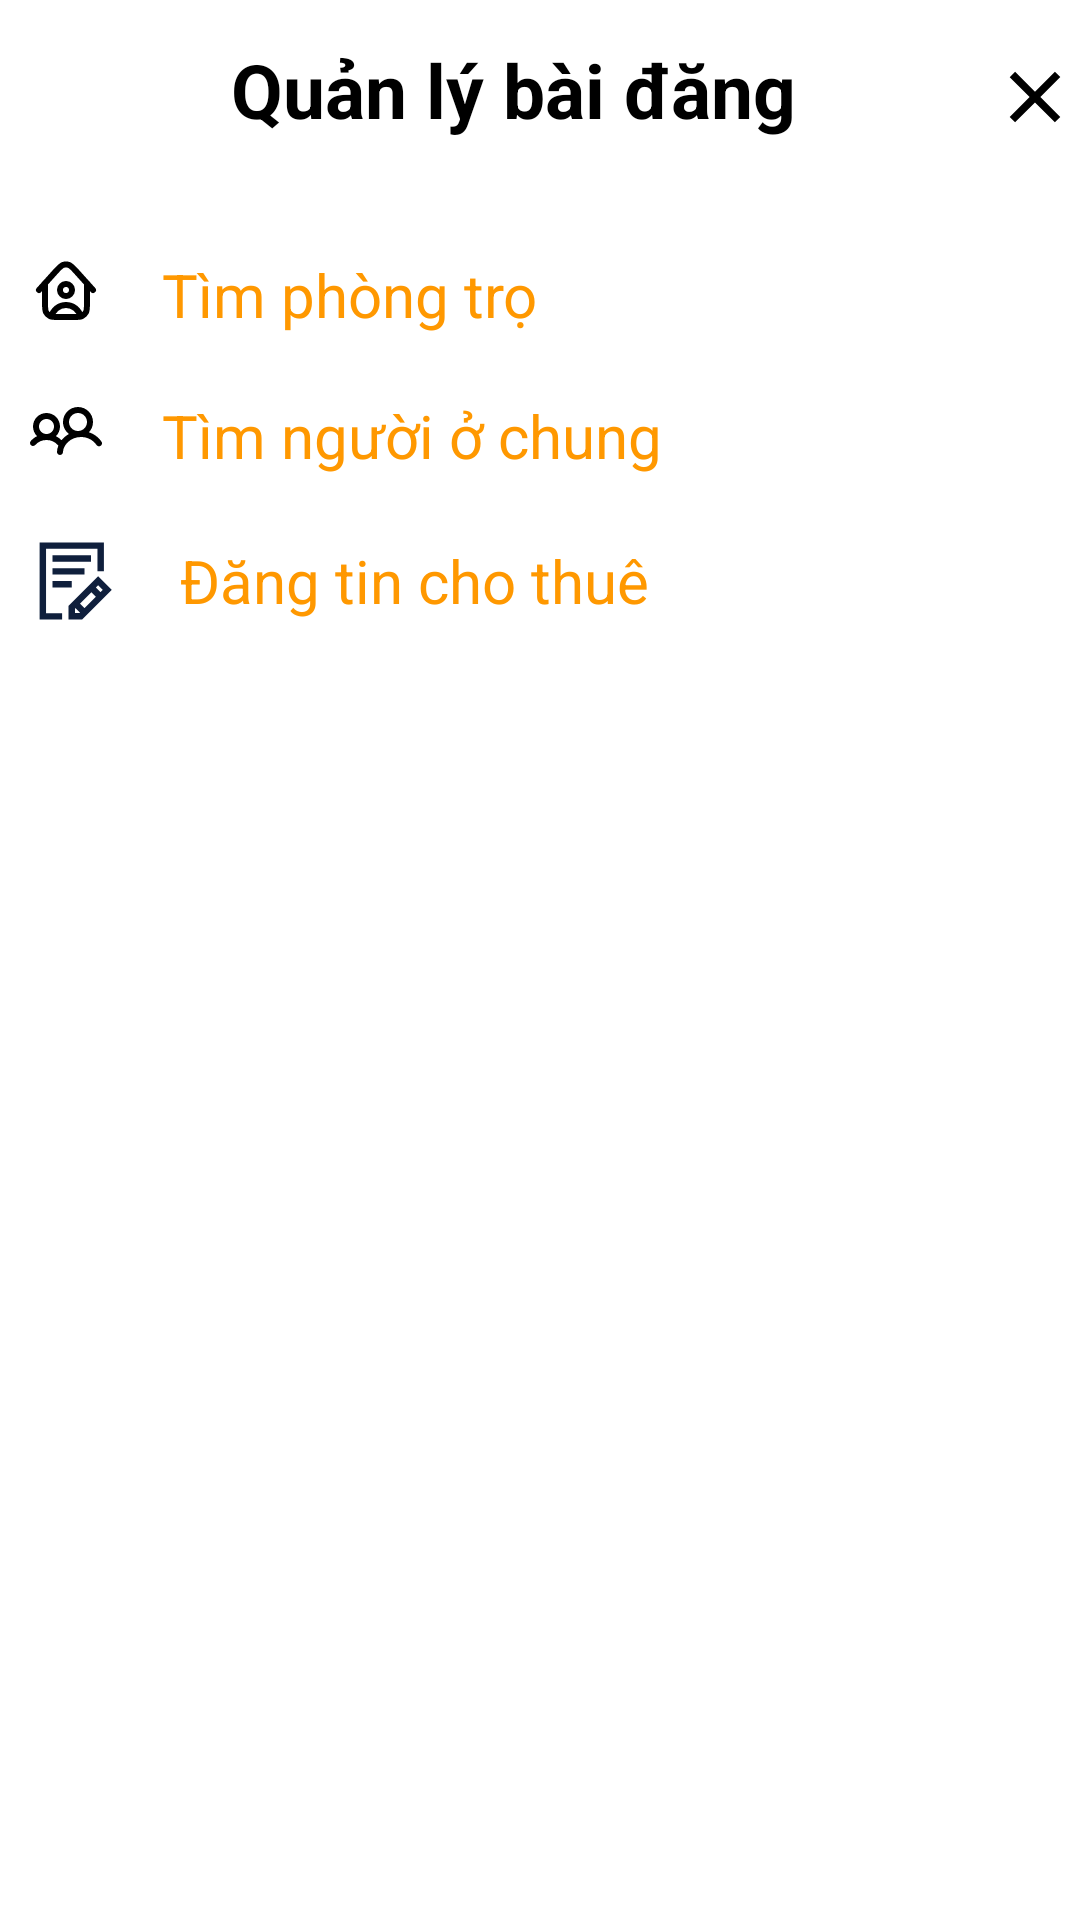

Icon click points for this 1080px×1920px phone screenshot, format (x,y):
clear: (1035,97)
contract: (75,581)
groupusers: (66,431)
house: (66,290)
